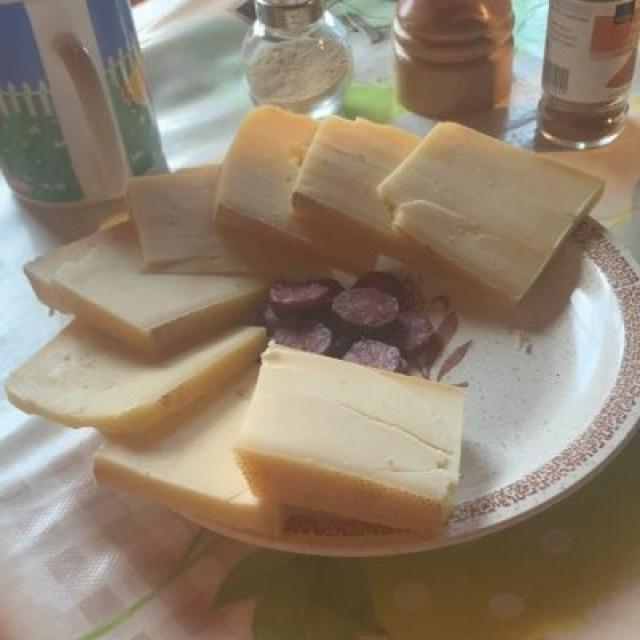cheese: (0, 107, 604, 543)
sausage: (265, 277, 449, 368)
